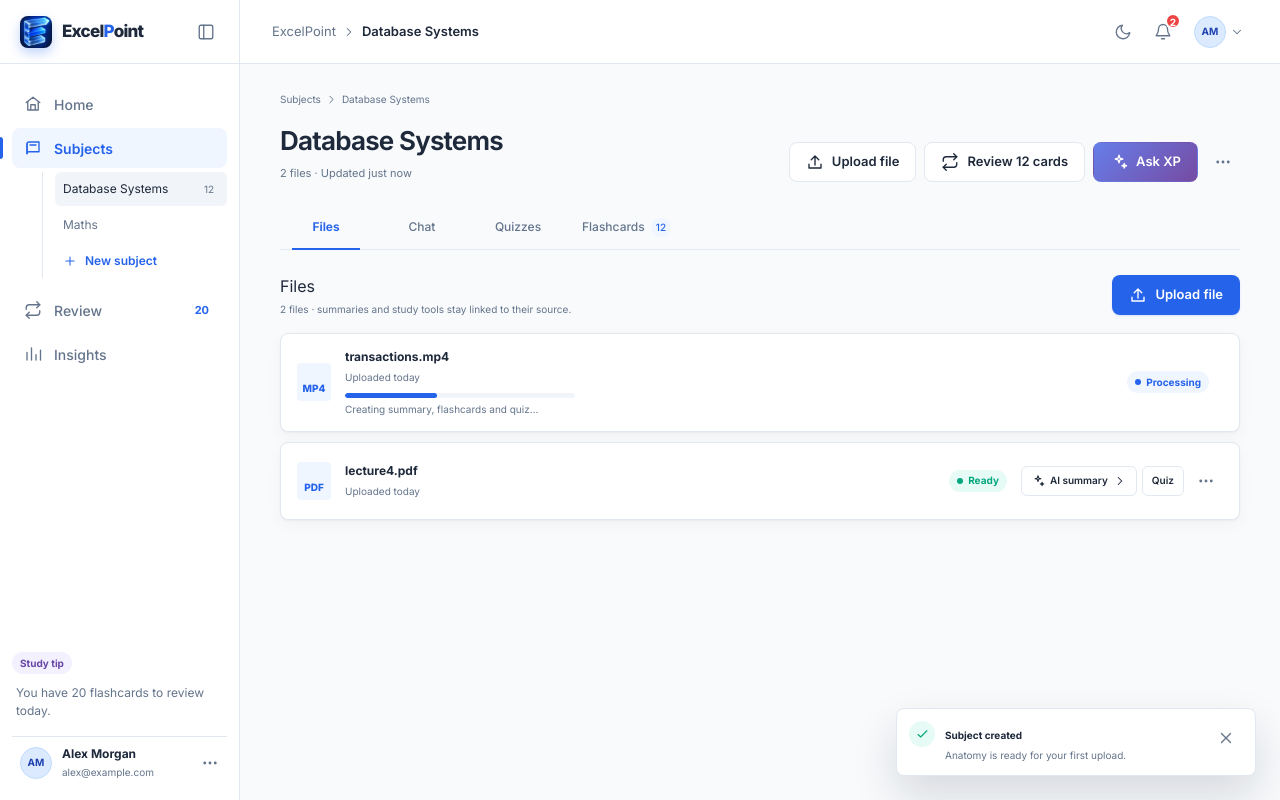
Test: Subject workspace › lists files with status, expands the AI summary and shows processing
Expected: the heading "Database Systems" is shown, [280,121,503,160]
Expected: the text "lecture4.pdf" is shown, [345,463,418,478]
Click the button "AI summary". click: {"x": 1079, "y": 480}
box: [1021,466,1137,496]
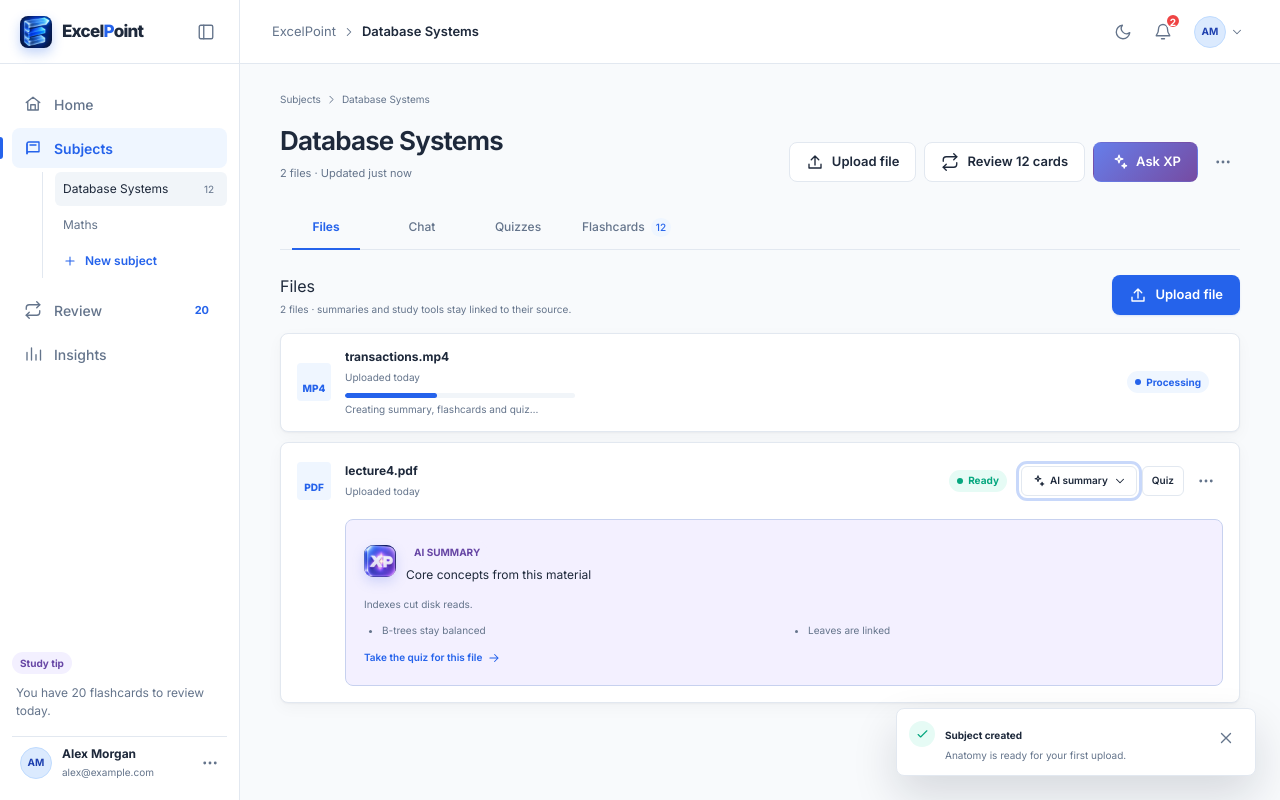
Now the list item "B-trees stay balanced" is shown, box [382,624,486,636]
Now the list item "Leaves are linked" is shown, box [808,624,890,636]
